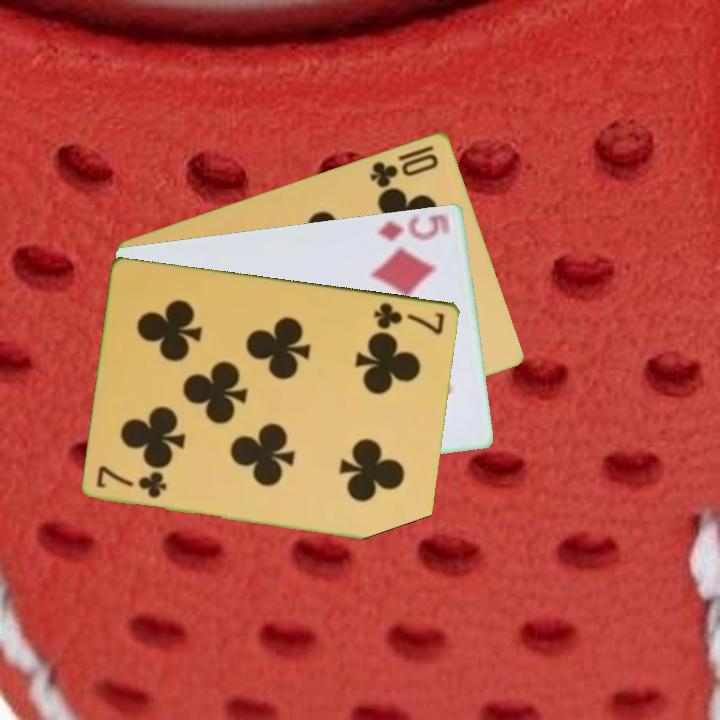10c: (366, 149, 442, 190)
5d: (374, 210, 454, 244)
7c: (370, 298, 448, 337), (93, 465, 170, 501)
